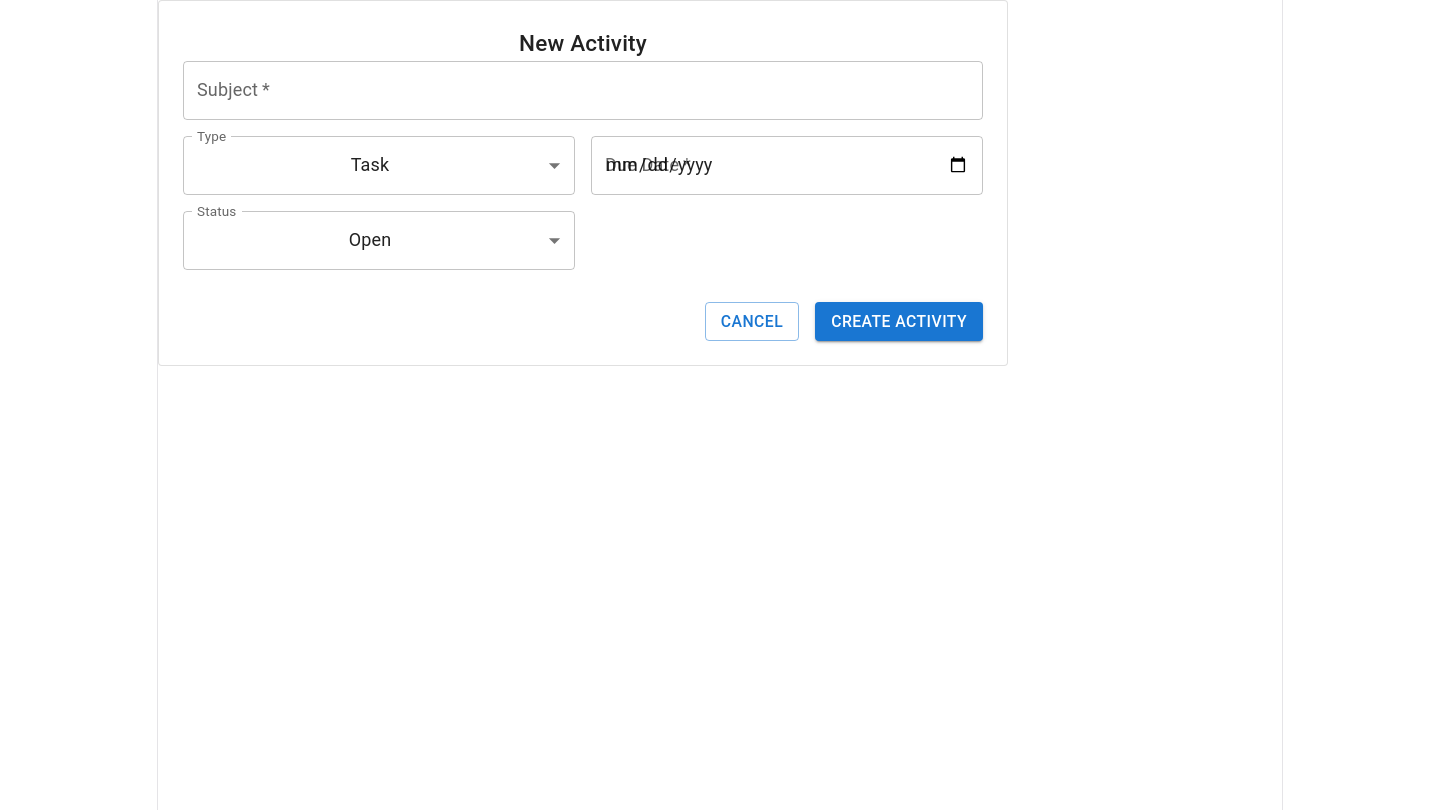
Test: ActivityFormPage › shows validation error when Subject is empty
This screenshot has width=1440, height=810.
Click the button "Create Activity": (899, 321) left=815, top=302, right=983, bottom=341
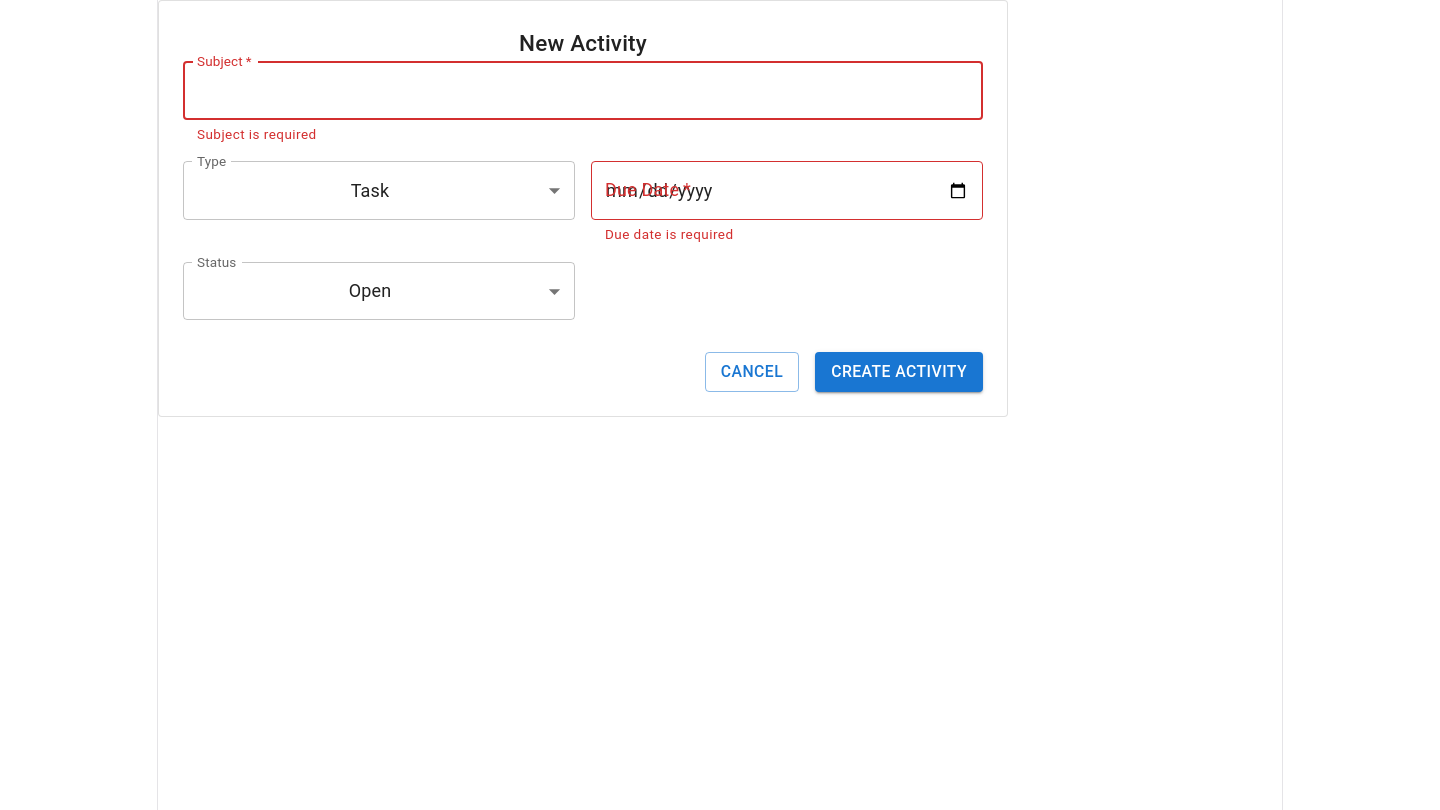
Expected: the text "Subject is required" is shown, left=197, top=126, right=317, bottom=142
